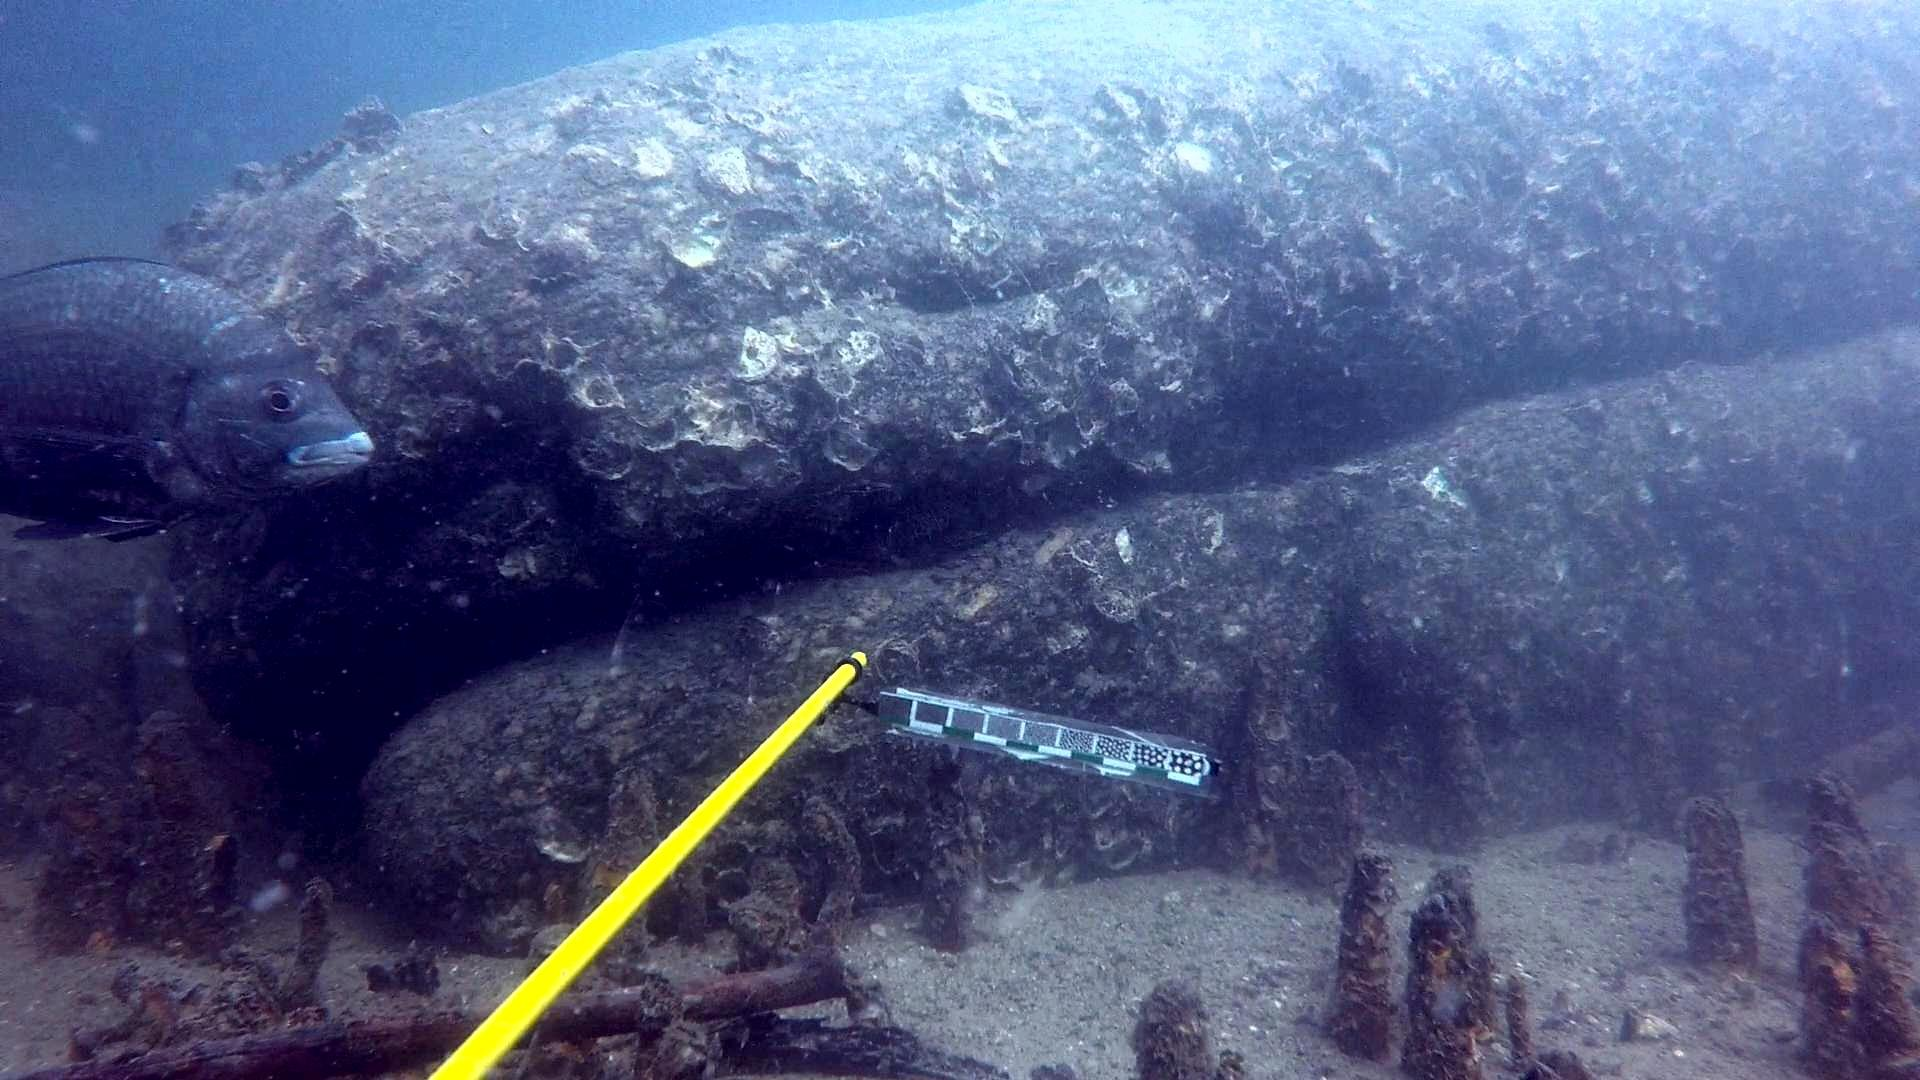acanthopagrus palmaris: (0, 244, 385, 563)
